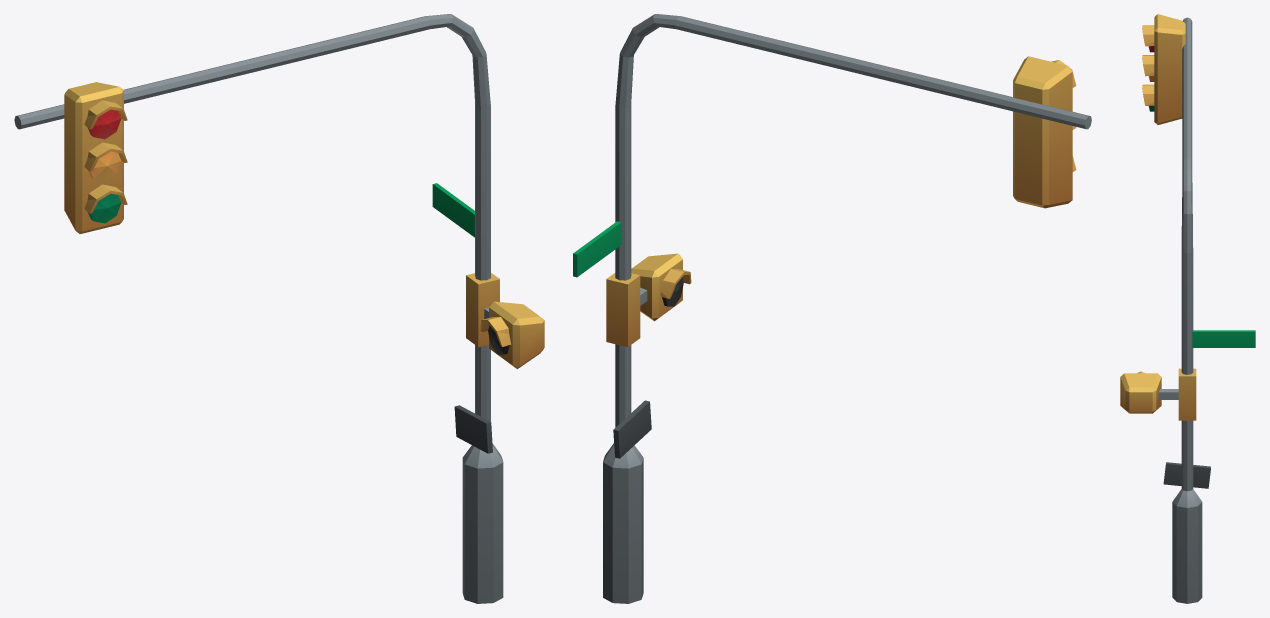
Rendered from trafficlight_C.obj.
3 renders of one model, left to right at view 1: azimuth 30°, elevation 25°; view 2: azimuth 150°, elevation 25°; view 3: azimuth 270°, elevation 25°, orthographic. The views are drawn at different scales.
Bounding box in the file's own units: 0.7977 × 0.9695 × 0.2716.
1 material, 1 textured.
